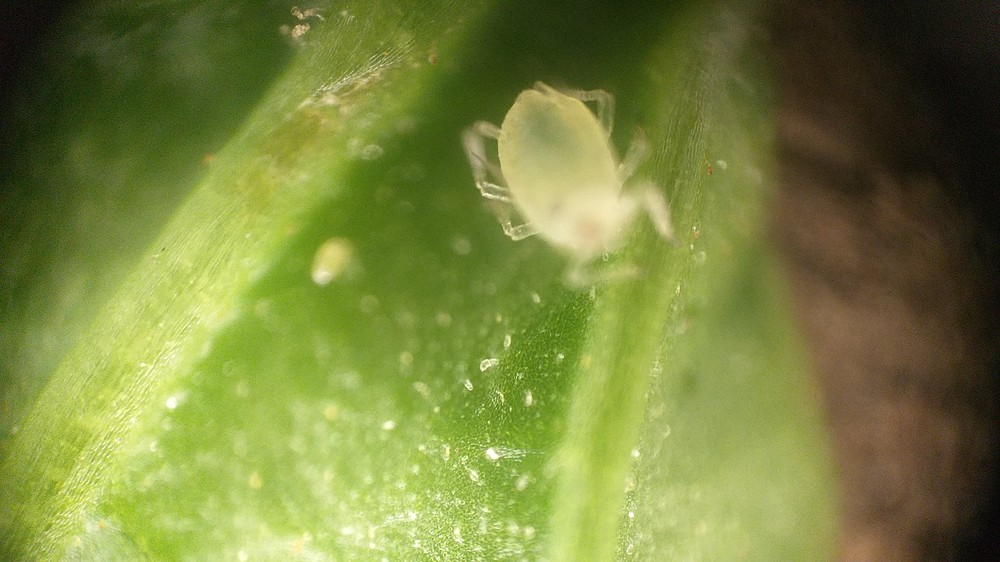Pulgon: (417, 60, 708, 304)
